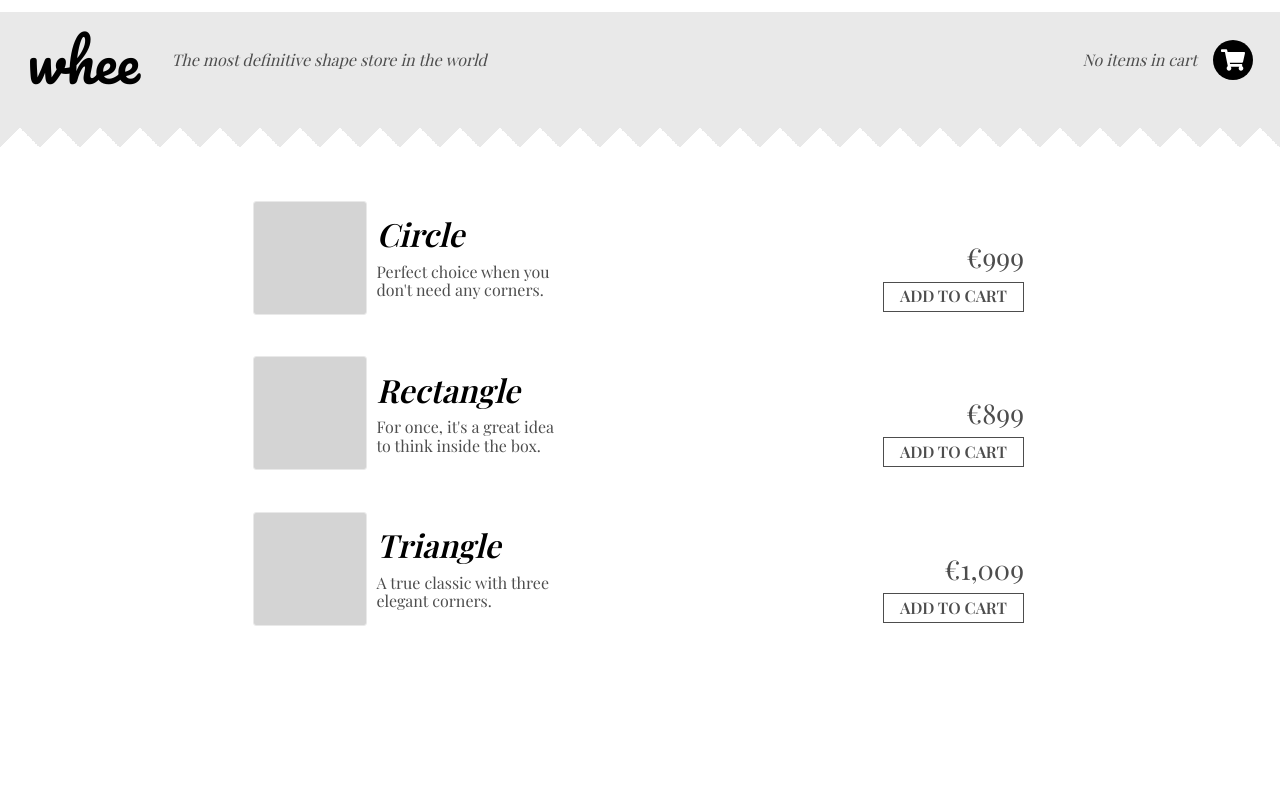
Test case: Product view › should correctly add and remove items to and from cart
Expected: the list item "No items in cart" is shown, [1082,49,1197,70]
Expected: the heading "Circle" is shown, [376,212,464,255]
What coordinates should you click on to do the following:
click the button "ADD TO CART" below "€999"
I would click on:
 (954, 297)
Its box is [883,282,1024,312].
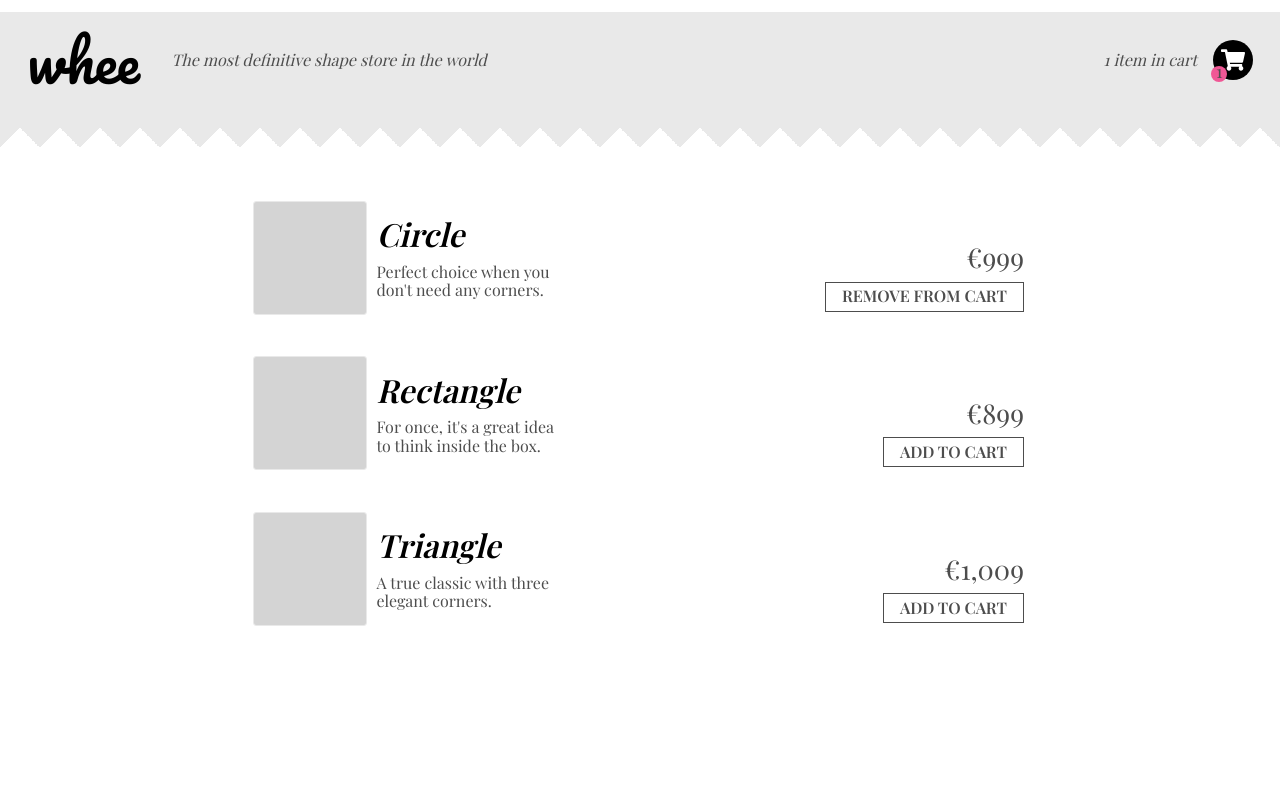
Result: the button "REMOVE FROM CART" is shown at [825,282,1024,312]
Result: the list item "No items in cart" is gone
Result: the list item "1 item in cart" is shown at [1104,49,1197,70]
What coordinates should you click on to do the following:
click the button "ADD TO CART" below "€1,009"
I would click on:
 (954, 608)
Its box is [883,593,1024,623].
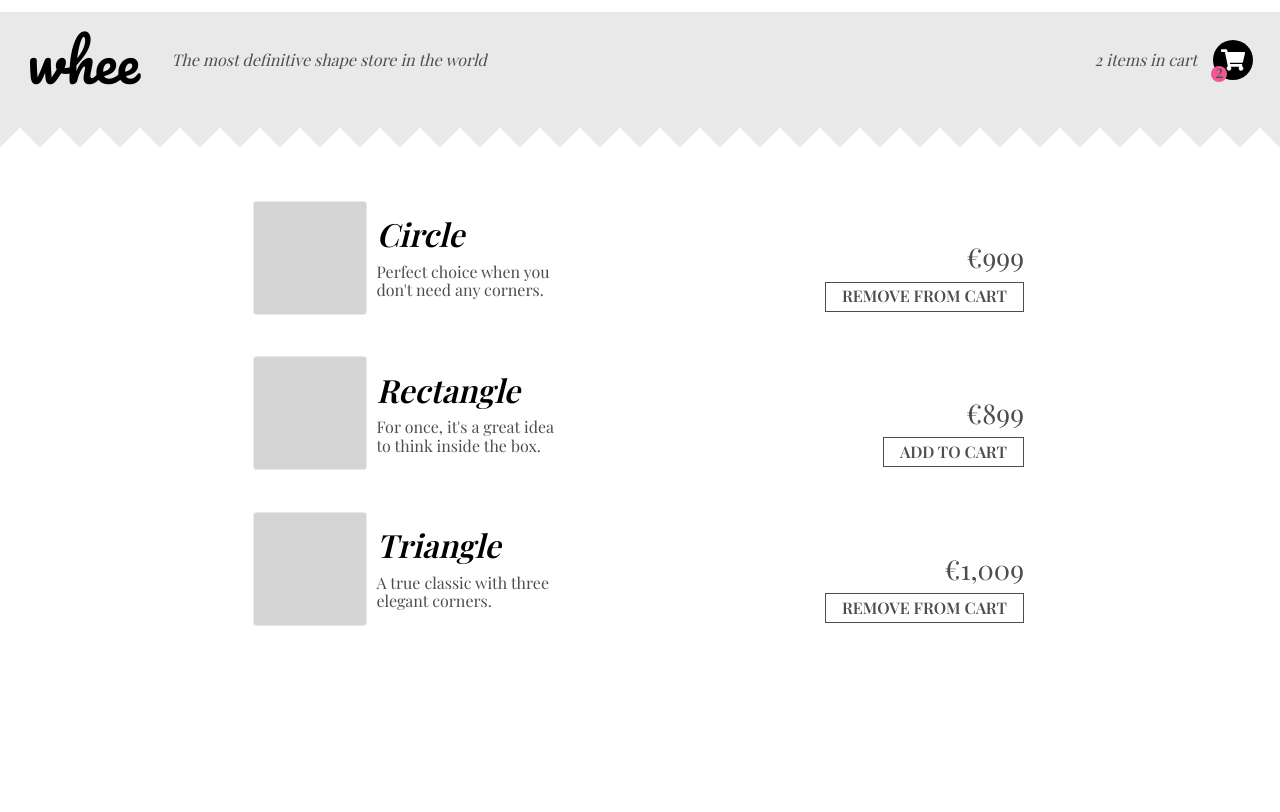
Expected: the number of buttons "ADD TO CART" is 1, [883,437,1024,467]
Result: the list item "1 item in cart" is gone
Result: the list item "2 items in cart" is shown at [1095,49,1197,70]
What coordinates should you click on to do the following:
click the link named "shopping cart"
I would click on:
 (1233, 60)
Its box is [1213,40,1253,80].
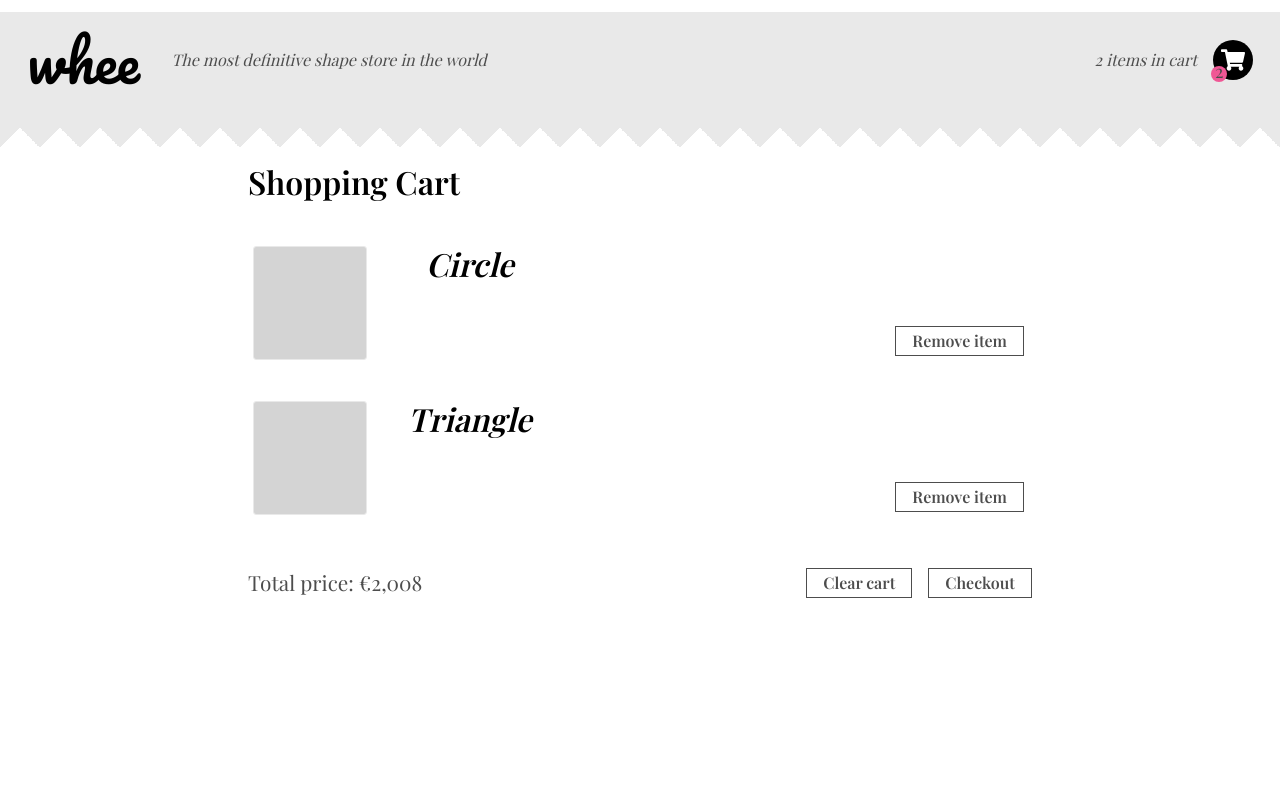
Expected: the heading "Circle" is shown, [426,242,514,285]
Result: the heading "Rectangle" is gone
Result: the text "Total price: €2,008" is shown at [248,571,422,595]
What coordinates should you click on to do the following:
click the link "whee"
I would click on:
 (83, 60)
Its box is [27,28,139,92].
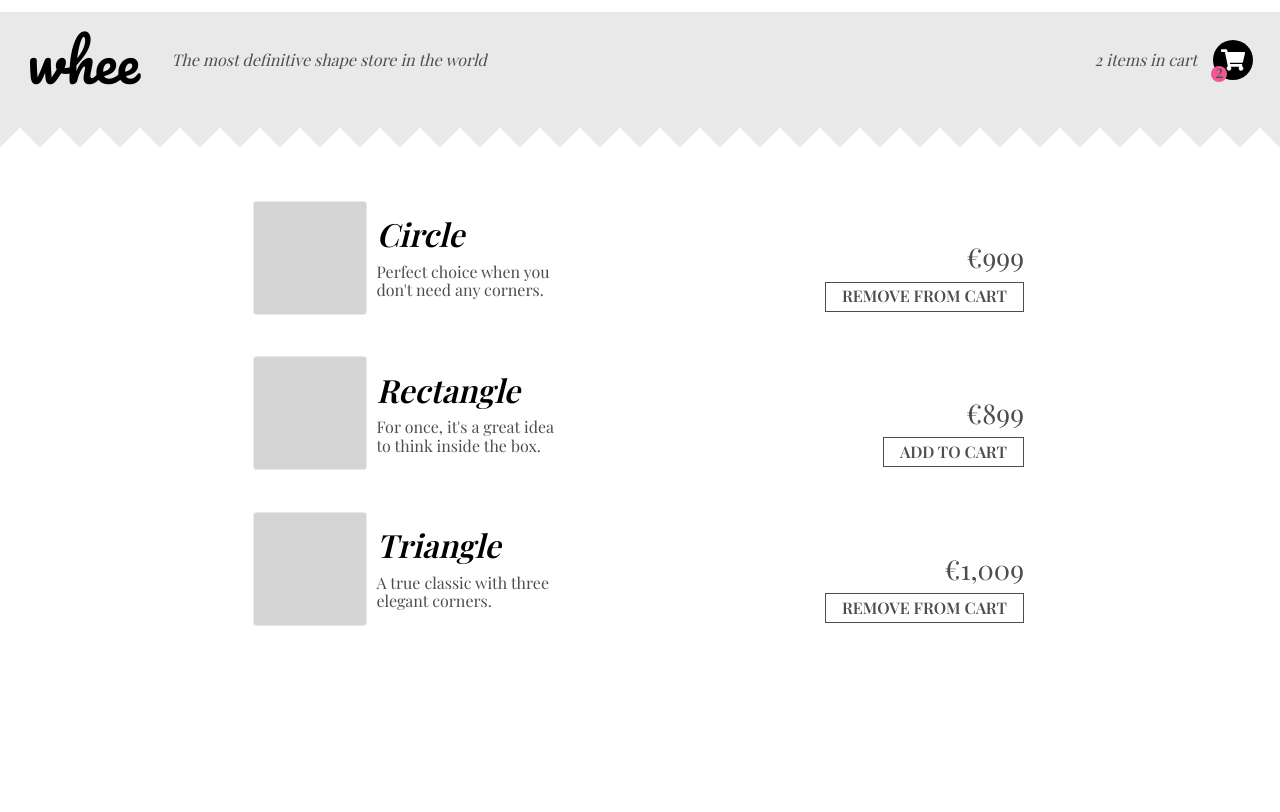
Result: the number of buttons "REMOVE FROM CART" is 2 at [825,282,1024,312]; [825,593,1024,623]
